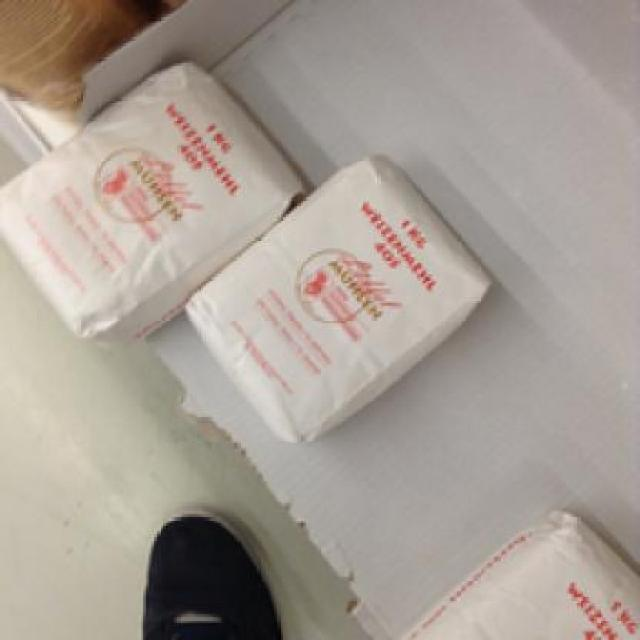Flour: (182, 154, 488, 440), (0, 63, 300, 343), (383, 512, 637, 634)
